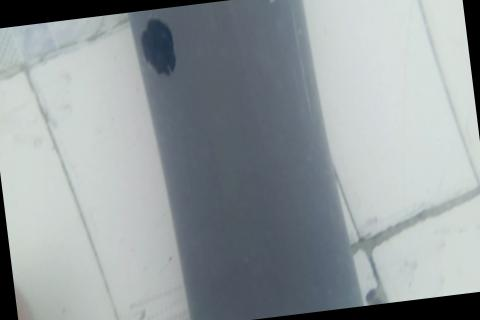kebocoran: (137, 14, 180, 80)
